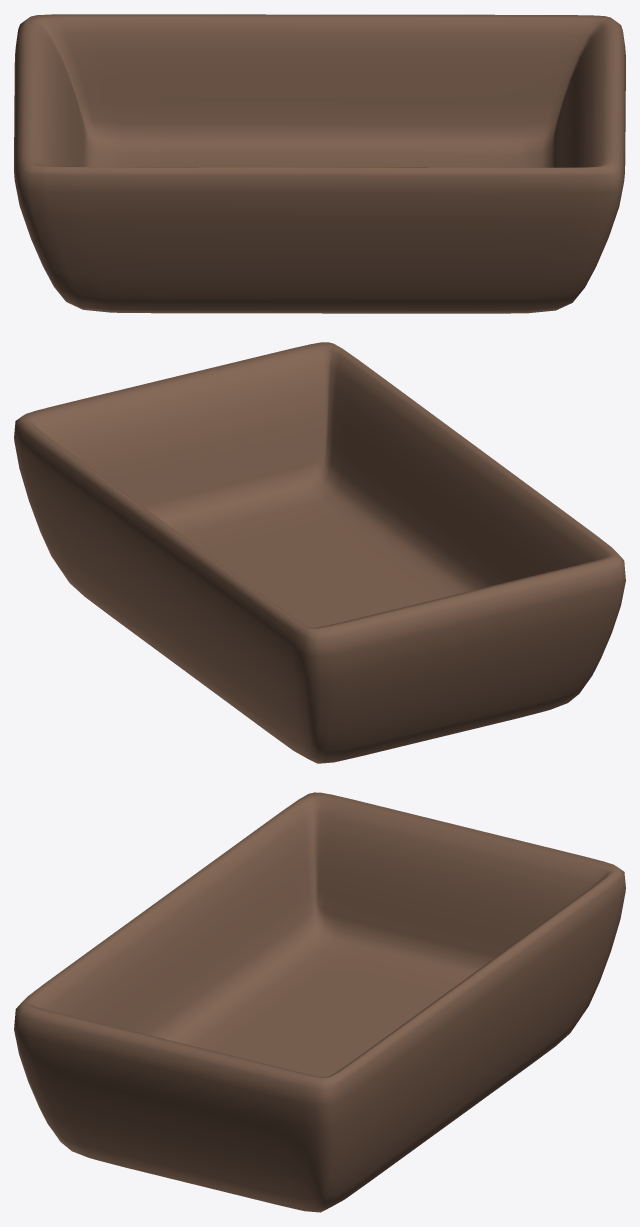
The model's file is market-box2.fbx.
3 views of the same model, one above another, from view 1: azimuth 30°, elevation 25°; view 2: azimuth 150°, elevation 25°; view 3: azimuth 270°, elevation 25° (orthographic).
Parts seen in each view (by area): view 1: Plane.073; view 2: Plane.073; view 3: Plane.073.
Part boxes in pixels (bbox=[...]): Plane.073: bbox=[14, 14, 625, 313]; Plane.073: bbox=[14, 342, 625, 763]; Plane.073: bbox=[14, 792, 625, 1212].
Size of the model in its own units: 103 by 27.33 by 90.23.
